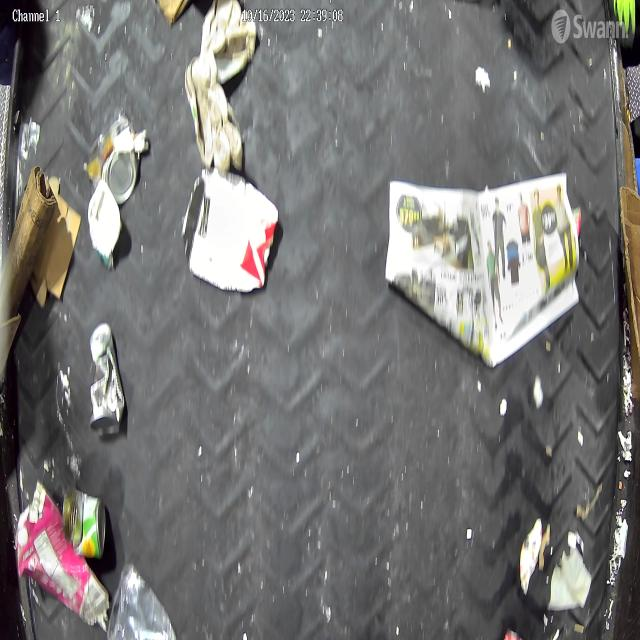can: (83, 111, 141, 206), (88, 320, 128, 433), (62, 485, 106, 559)
non_white_jug: (182, 168, 278, 292)
